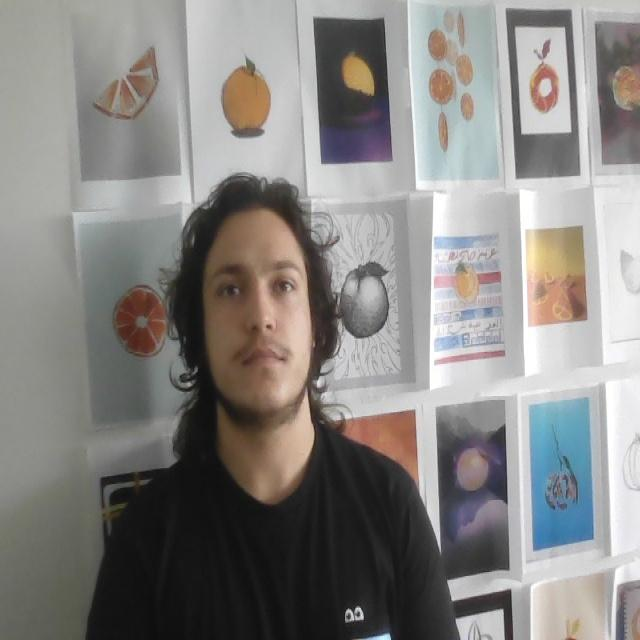opened_eye: (266, 274, 304, 298), (217, 276, 246, 304)
